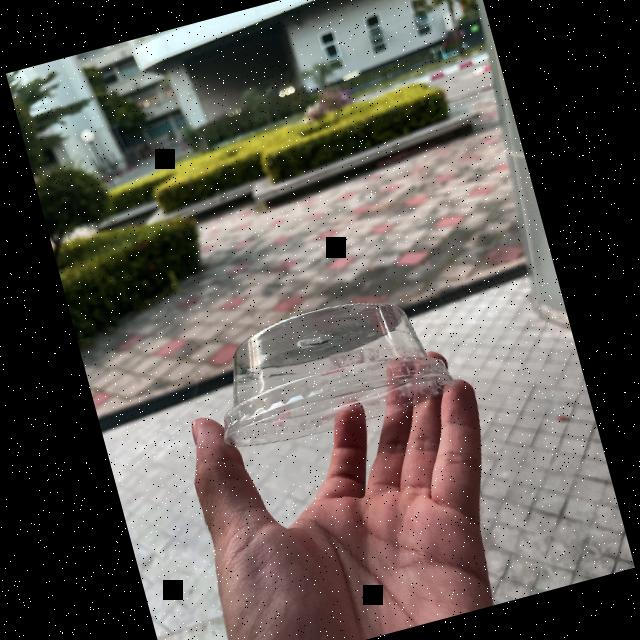plastic_cup_lid: (194, 276, 457, 468)
